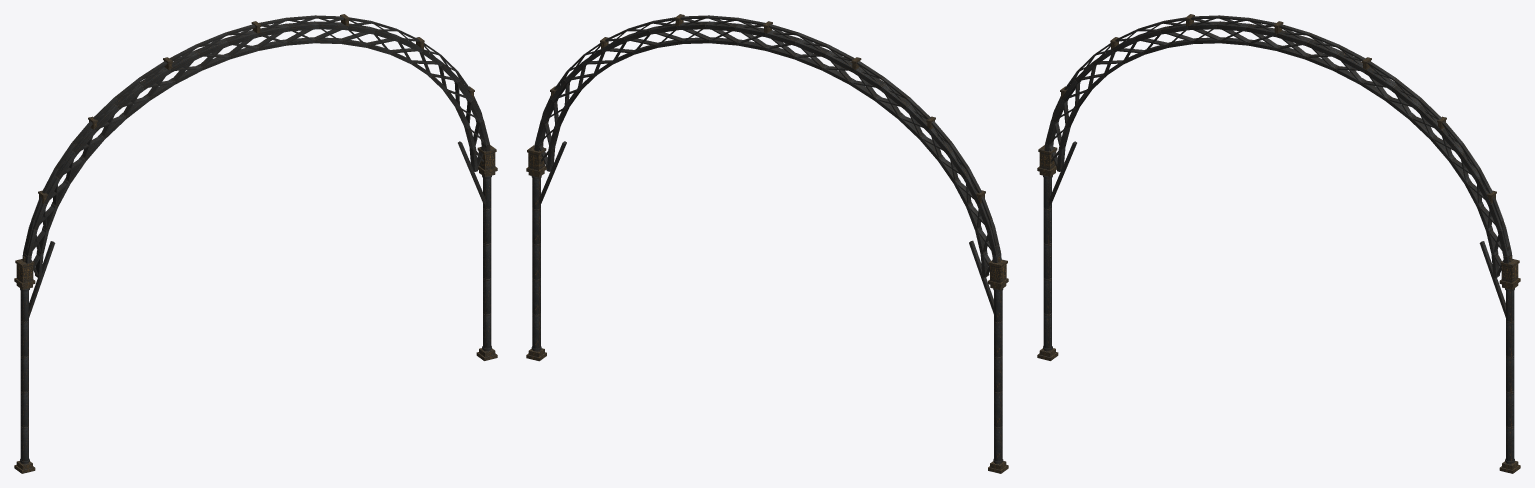
File: front_arch.glb
The picture shows the model from 3 angles, left to right: view 1: azimuth 30°, elevation 25°; view 2: azimuth 150°, elevation 25°; view 3: azimuth 330°, elevation 25°; orthographic projection.
Parts seen in each view (by area): view 1: left_front_column_shaft, right_front_column_shaft; view 2: left_front_column_shaft, right_front_column_shaft; view 3: right_front_column_shaft, left_front_column_shaft.
Boxes of the visible parts, x1=… form: left_front_column_shaft: x1=20, y1=289, x2=28, y2=464; right_front_column_shaft: x1=483, y1=176, x2=491, y2=351; left_front_column_shaft: x1=994, y1=289, x2=1002, y2=464; right_front_column_shaft: x1=532, y1=176, x2=540, y2=351; right_front_column_shaft: x1=1506, y1=289, x2=1514, y2=464; left_front_column_shaft: x1=1043, y1=176, x2=1051, y2=351.
Size of the model in its own units: 28.8 by 22.57 by 0.8.
Materials: 2 (2 with a texture image).
